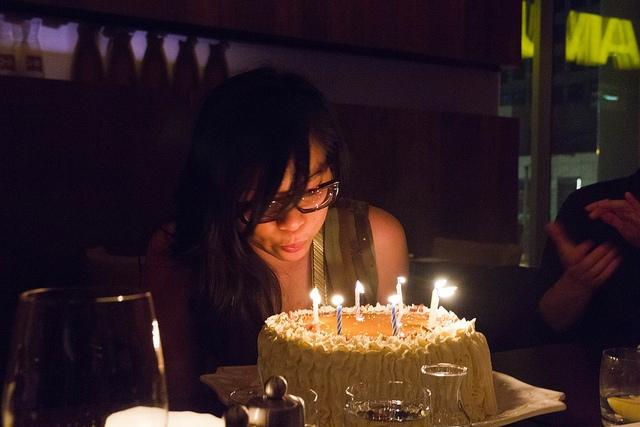lemon: (607, 397, 639, 420)
